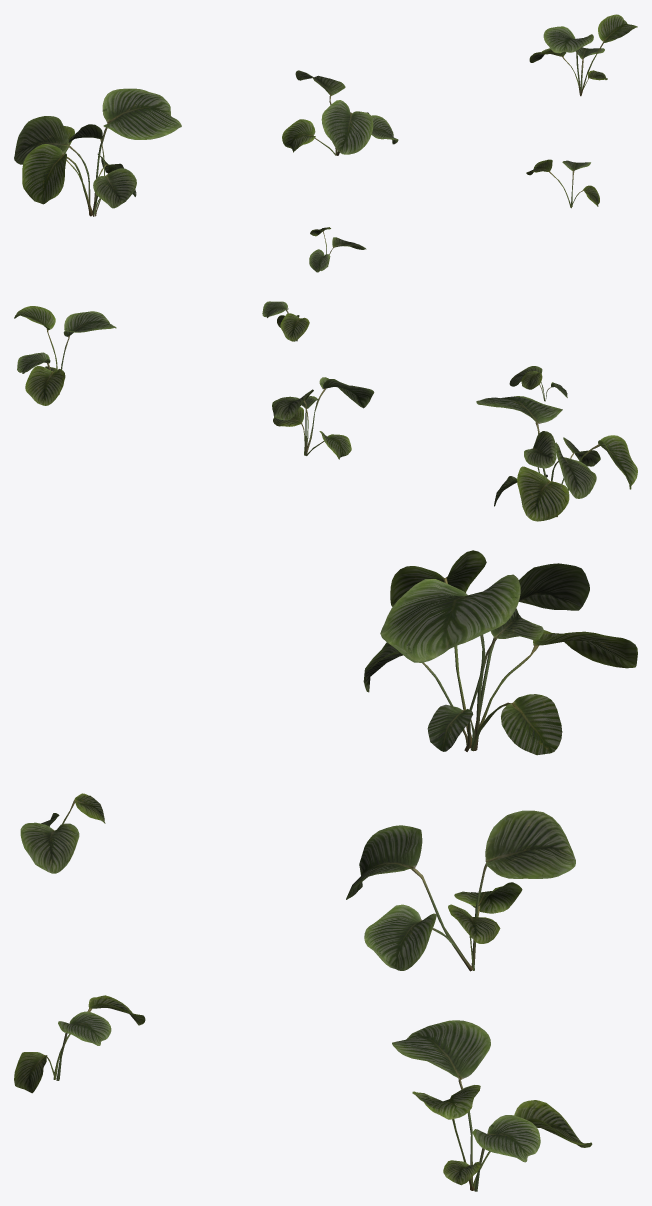
Rendered from plant.glb.
The picture shows the model from 3 angles, top to bottom: view 1: azimuth 30°, elevation 25°; view 2: azimuth 150°, elevation 25°; view 3: azimuth 270°, elevation 25°; orthographic projection. The views are drawn at different scales.
Parts seen in each view (by area): view 1: calathea_orbifolia_01_a, calathea_orbifolia_01_b, calathea_orbifolia_01_c, calathea_orbifolia_01_e, calathea_orbifolia_01_d; view 2: calathea_orbifolia_01_a, calathea_orbifolia_01_c, calathea_orbifolia_01_b, calathea_orbifolia_01_e, calathea_orbifolia_01_d; view 3: calathea_orbifolia_01_a, calathea_orbifolia_01_b, calathea_orbifolia_01_c, calathea_orbifolia_01_e, calathea_orbifolia_01_d.
Boxes of the visible parts, x1=… form: calathea_orbifolia_01_a: x1=14, y1=88, x2=181, y2=216; calathea_orbifolia_01_b: x1=282, y1=70, x2=398, y2=155; calathea_orbifolia_01_c: x1=529, y1=14, x2=637, y2=96; calathea_orbifolia_01_e: x1=526, y1=159, x2=599, y2=208; calathea_orbifolia_01_d: x1=309, y1=227, x2=366, y2=272; calathea_orbifolia_01_a: x1=476, y1=396, x2=637, y2=521; calathea_orbifolia_01_c: x1=14, y1=306, x2=116, y2=405; calathea_orbifolia_01_b: x1=272, y1=377, x2=374, y2=459; calathea_orbifolia_01_e: x1=262, y1=301, x2=309, y2=341; calathea_orbifolia_01_d: x1=509, y1=366, x2=567, y2=401; calathea_orbifolia_01_a: x1=363, y1=550, x2=637, y2=755; calathea_orbifolia_01_b: x1=346, y1=810, x2=575, y2=971; calathea_orbifolia_01_c: x1=392, y1=1020, x2=592, y2=1191; calathea_orbifolia_01_e: x1=14, y1=995, x2=145, y2=1093; calathea_orbifolia_01_d: x1=20, y1=793, x2=105, y2=873.
Size of the model in its own units: 2.49 by 0.4243 by 1.19.
1 material, 1 textured.
